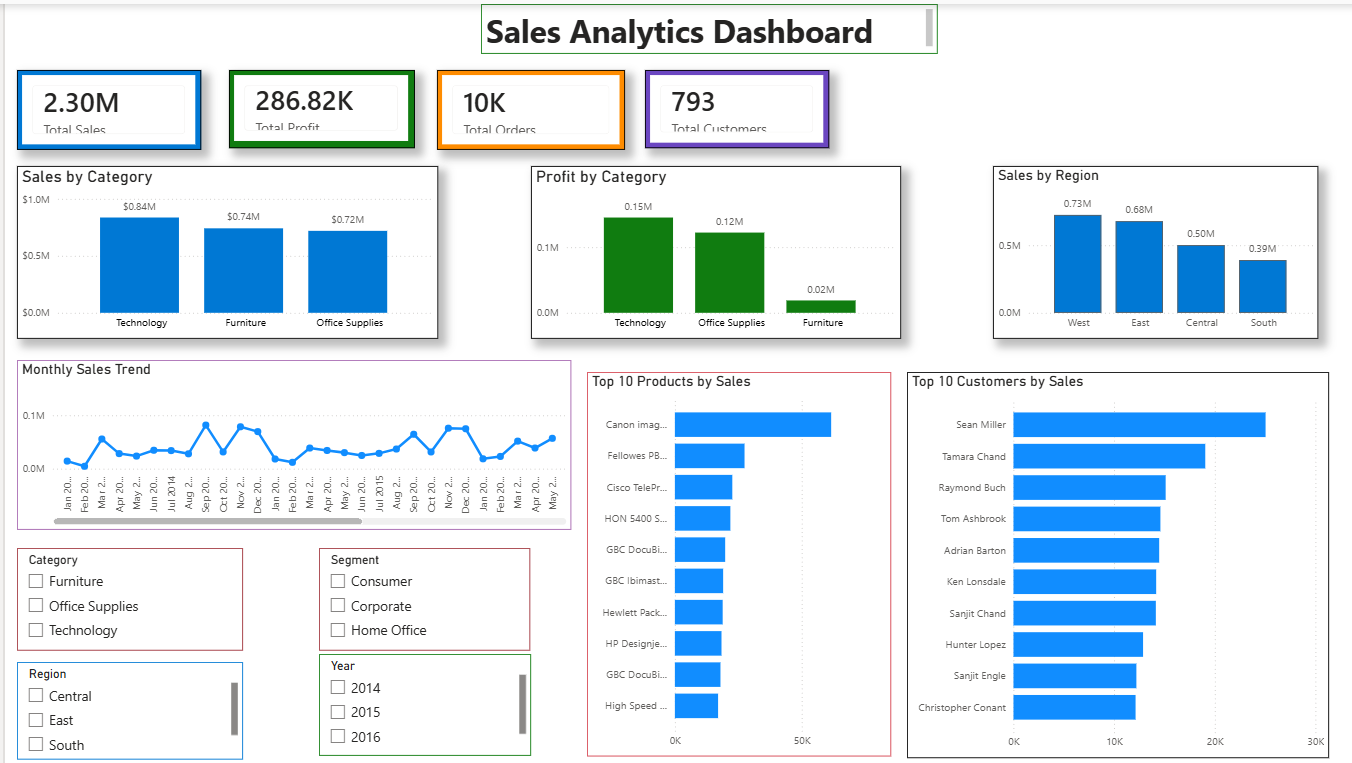

The dashboard page shown, as its layout file describes it:
{"tool":"powerbi","page":{"name":"Page 1","canvas":[1600,900],"ordinal":0},"visuals":[{"type":"cardVisual","fields":{"Data":["Orders.Total Profit"]},"box":[265.1,78.1,220.1,92.3],"z":0},{"type":"clusteredColumnChart","title":"Sales by Category","fields":{"Y":["Orders.Total Sales"],"Category":["Orders.Category"]},"box":[13.3,191.5,498.6,204.7],"z":1000},{"type":"cardVisual","fields":{"Data":["Orders.Total Orders"]},"box":[511.2,78.1,222.5,94.7],"z":2000},{"type":"cardVisual","fields":{"Data":["Orders.Total Customers"]},"box":[757.4,78.1,217.8,92.3],"z":3000},{"type":"clusteredColumnChart","title":"Profit by Category","fields":{"Y":["Orders.Total Profit"],"Category":["Orders.Category"]},"box":[621.8,191.5,437.9,204.7],"z":4000},{"type":"clusteredColumnChart","title":"Sales by Region","fields":{"Category":["Orders.Region"],"Y":["Orders.Total Sales"]},"box":[1169.7,191.5,384.8,204.7],"z":5000},{"type":"lineChart","title":"Monthly Sales Trend","fields":{"Y":["Orders.Total Sales"],"Category":["Orders.YearMonth"]},"box":[13.3,420.9,655.9,200.9],"z":6000},{"type":"clusteredBarChart","title":"Top 10 Customers by Sales","fields":{"Y":["Orders.Total Sales"],"Category":["Orders.Customer_Name"]},"box":[1067.5,435.5,499.4,456.8],"z":7000},{"type":"clusteredBarChart","title":"Top 10 Products by Sales","fields":{"Y":["Orders.Total Sales"],"Category":["Orders.Product_Name"]},"box":[688.2,436,360.2,455],"z":8000},{"type":"slicer","fields":{"Values":["Orders.Order_Date.Variation.Date Hierarchy.Year"]},"box":[371.6,769.2,250.9,120.7],"z":9000},{"type":"slicer","fields":{"Values":["Orders.Region"]},"box":[13.3,779.1,267.3,115.6],"z":10000},{"type":"slicer","fields":{"Values":["Orders.Segment"]},"box":[371.6,642.7,250.2,121.3],"z":11000},{"type":"slicer","fields":{"Values":["Orders.Category"]},"box":[13.3,642.7,267.3,121.3],"z":12000},{"type":"textbox","box":[563,0,540.3,58.8],"z":13000},{"type":"cardVisual","fields":{"Data":["Orders.Total Sales"]},"box":[14.2,78.1,217.8,94.7],"z":14000}]}

Visuals, with their boxes in screenshot pixels (x1, y1, x2, y2), scaled from the page's 1600x900 canvas onto the 1352x763 screenshot:
cardVisual - Orders.Total Profit: select_region(224, 66, 410, 144)
"Sales by Category" clusteredColumnChart: select_region(11, 162, 433, 336)
cardVisual - Orders.Total Orders: select_region(432, 66, 620, 146)
cardVisual - Orders.Total Customers: select_region(640, 66, 824, 144)
"Profit by Category" clusteredColumnChart: select_region(525, 162, 895, 336)
"Sales by Region" clusteredColumnChart: select_region(988, 162, 1314, 336)
"Monthly Sales Trend" lineChart: select_region(11, 357, 565, 527)
"Top 10 Customers by Sales" clusteredBarChart: select_region(902, 369, 1324, 756)
"Top 10 Products by Sales" clusteredBarChart: select_region(582, 370, 886, 755)
slicer - Orders.Order_Date.Variation.Date Hierarchy.Year: select_region(314, 652, 526, 754)
slicer - Orders.Region: select_region(11, 661, 237, 759)
slicer - Orders.Segment: select_region(314, 545, 525, 648)
slicer - Orders.Category: select_region(11, 545, 237, 648)
textbox: select_region(476, 0, 932, 50)
cardVisual - Orders.Total Sales: select_region(12, 66, 196, 146)
